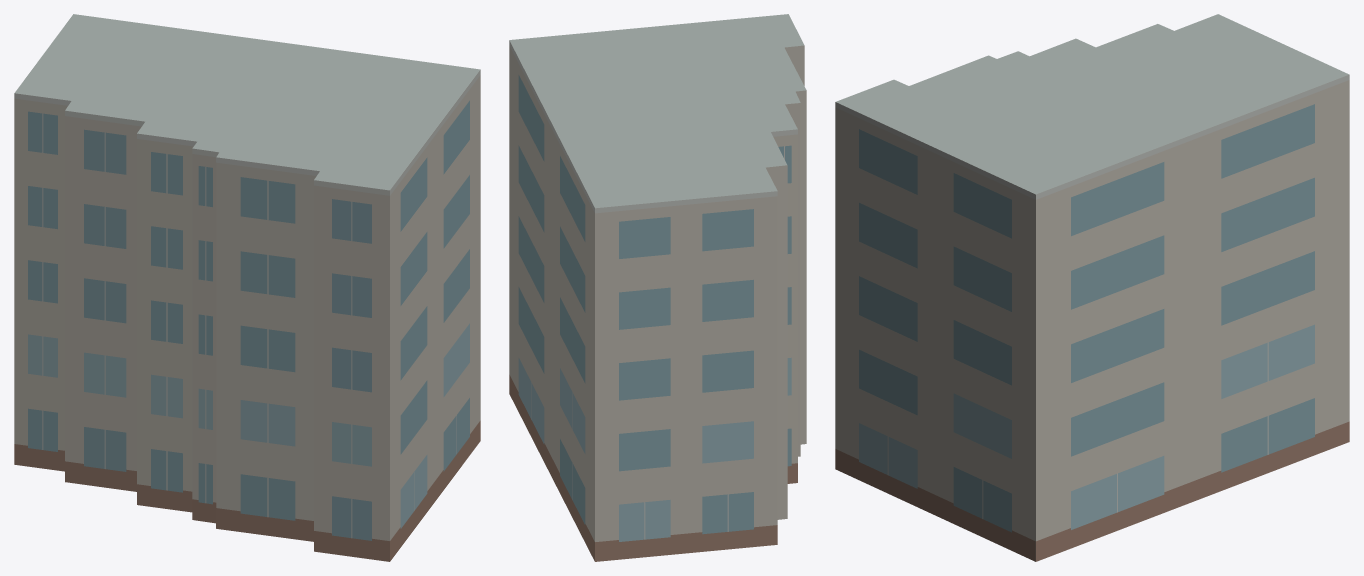
File: survey-upis-32669874.glb
The picture shows the model from 3 angles, left to right: view 1: azimuth 30°, elevation 25°; view 2: azimuth 150°, elevation 25°; view 3: azimuth 270°, elevation 25°; orthographic projection. The views are drawn at different scales.
Parts seen in each view (by area): view 1: survey-upis-32669874.tmp; view 2: survey-upis-32669874.tmp; view 3: survey-upis-32669874.tmp.
Boxes of the visible parts, bbox=[...] form: survey-upis-32669874.tmp: bbox=[14, 14, 480, 561]; survey-upis-32669874.tmp: bbox=[509, 14, 806, 561]; survey-upis-32669874.tmp: bbox=[835, 14, 1349, 561].
Size of the model in its own units: 17.81 by 16.89 by 21.43.
